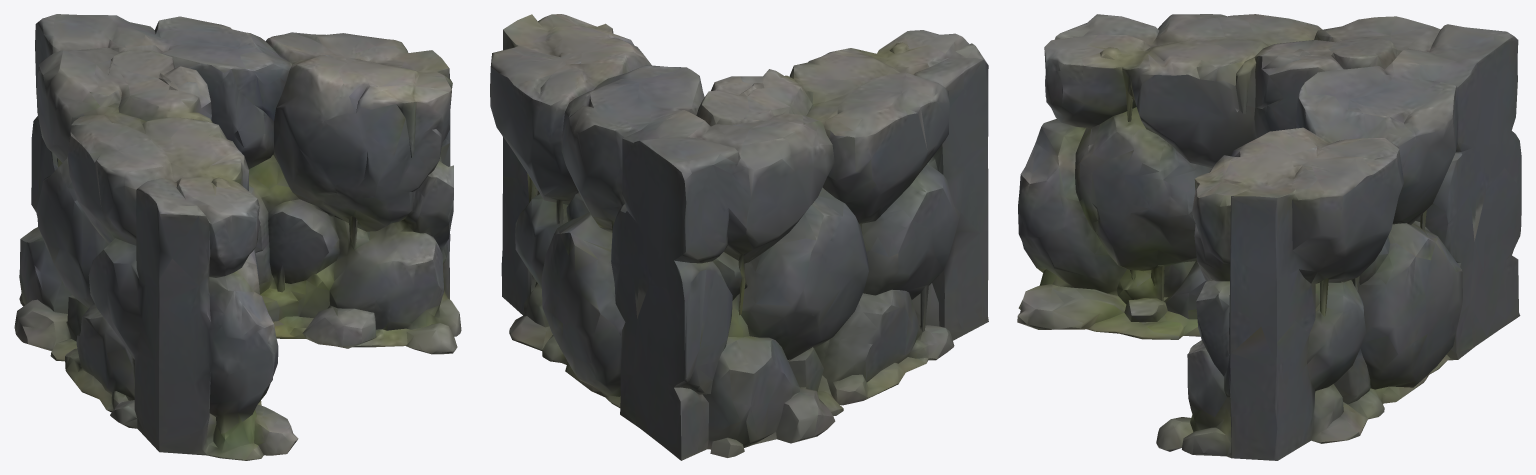
The model's file is cueva_esquina_int_6000.glb.
3 renders of one model, left to right at view 1: azimuth 30°, elevation 25°; view 2: azimuth 150°, elevation 25°; view 3: azimuth 270°, elevation 25°, orthographic. The views are drawn at different scales.
Visible parts, largest first — view 1: cueva_esquina_int_malla; view 2: cueva_esquina_int_malla; view 3: cueva_esquina_int_malla.
Part boxes in pixels (x1=…): cueva_esquina_int_malla: x1=14, y1=14, x2=461, y2=460; cueva_esquina_int_malla: x1=490, y1=14, x2=988, y2=460; cueva_esquina_int_malla: x1=1017, y1=14, x2=1521, y2=460.
Size of the model in its own units: 0.4272 by 0.3069 by 0.4794.
1 material, 1 textured.
